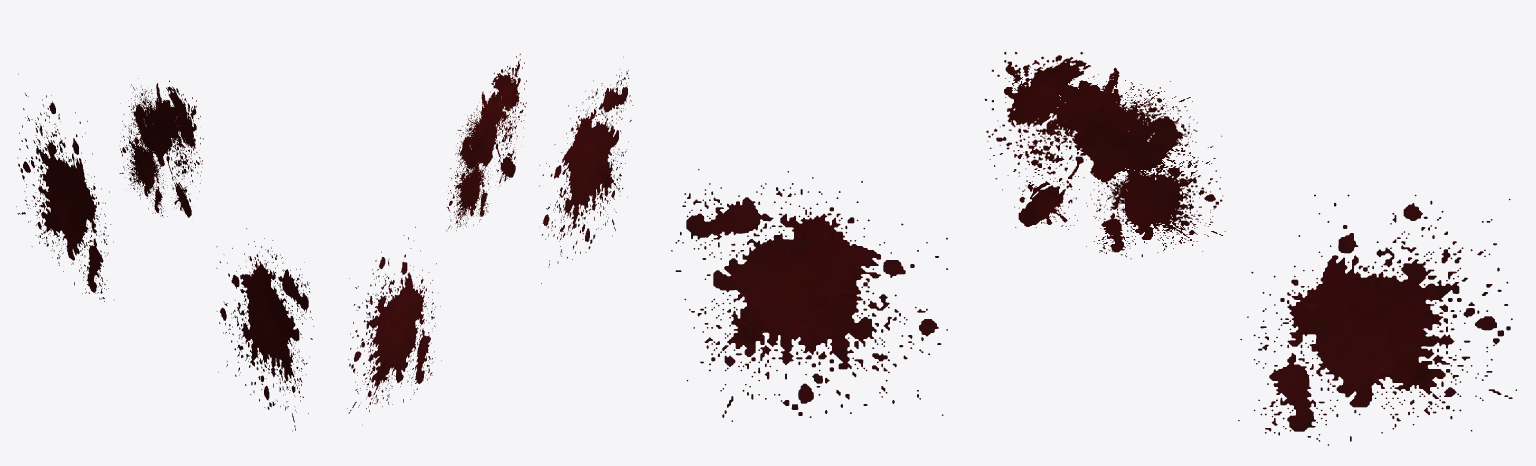
The model's file is KM_BLOOD_WALL_01.glb.
The picture shows the model from 3 angles, left to right: view 1: azimuth 30°, elevation 25°; view 2: azimuth 150°, elevation 25°; view 3: azimuth 270°, elevation 25°; orthographic projection. The views are drawn at different scales.
Visible parts, largest first — view 1: Mesh; view 2: Mesh; view 3: Mesh.
Part boxes in pixels (x1,y1,x2,y2): Mesh: (16, 74, 313, 431); Mesh: (347, 53, 633, 425); Mesh: (671, 52, 1516, 445).
Bounding box in the file's own units: 0.0169 × 2.03 × 3.6.
2 materials, 2 textured.
